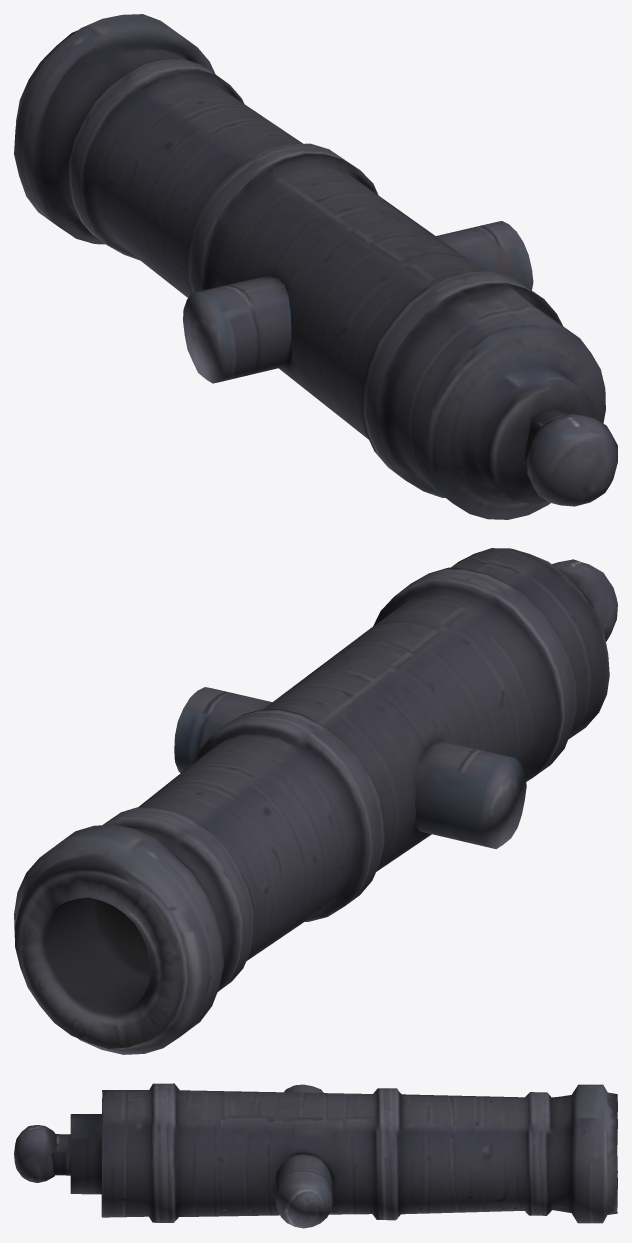
File: cannon_barrel.glb
3 views of the same model, one above another, from view 1: azimuth 30°, elevation 25°; view 2: azimuth 150°, elevation 25°; view 3: azimuth 270°, elevation 25° (orthographic). The views are drawn at different scales.
Parts seen in each view (by area): view 1: barrel; view 2: barrel; view 3: barrel.
Boxes of the visible parts, bbox=[...] form: barrel: bbox=[14, 14, 617, 519]; barrel: bbox=[14, 548, 617, 1054]; barrel: bbox=[14, 1083, 617, 1228].
Bounding box in the file's own units: 0.6775 × 0.443 × 1.9.
Materials: 1 (1 with a texture image).
